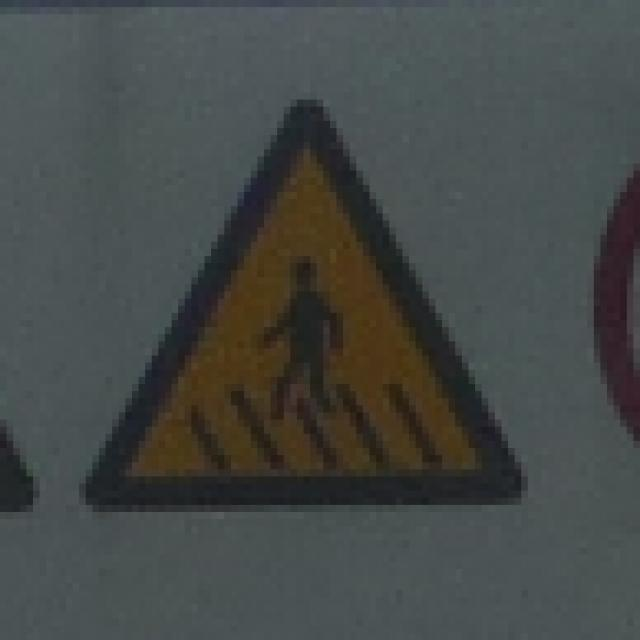Crossing: (84, 91, 534, 507)
